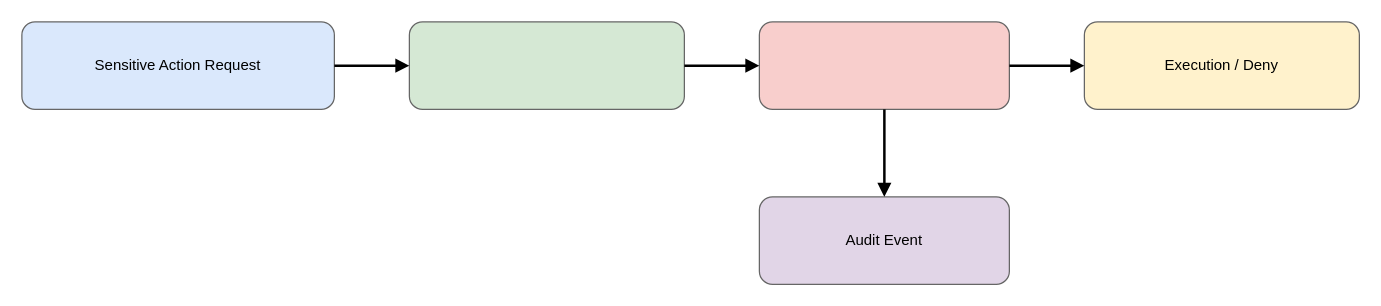
Some shapes in this 1381 by 306 pixel diagram are drawn without their labels. The centre of each missing label's shape, as x and y in pixels:
"Human Approval" goes at (x=883, y=65).
"Policy Evaluation" goes at (x=546, y=65).
